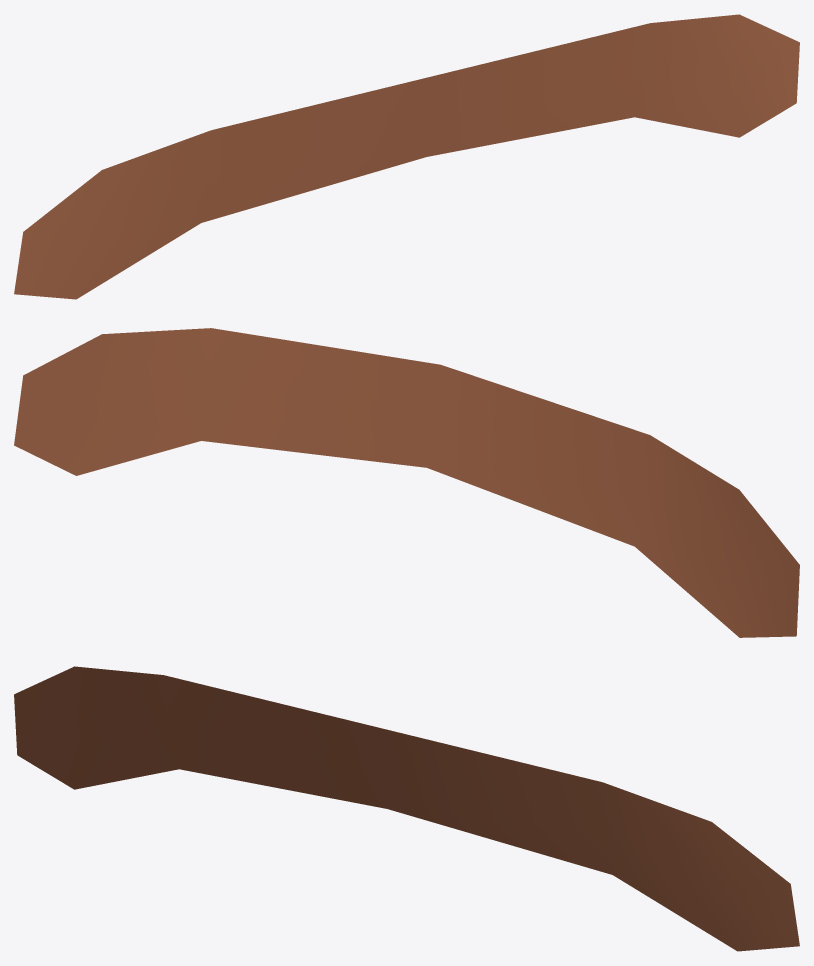
Rendered from Mouth_Yellow_5.fbx.
3 renders of one model, top to bottom at view 1: azimuth 30°, elevation 25°; view 2: azimuth 150°, elevation 25°; view 3: azimuth 330°, elevation 25°, orthographic.
Visible parts, largest first — view 1: Mouth_Yellow_5; view 2: Mouth_Yellow_5; view 3: Mouth_Yellow_5.
Part boxes in pixels (x1,y1,x2,y2): Mouth_Yellow_5: (14,14,799,299); Mouth_Yellow_5: (14,328,799,637); Mouth_Yellow_5: (14,666,799,951).
Size of the model in its own units: 8.32 by 1.71 by 0.6506.
